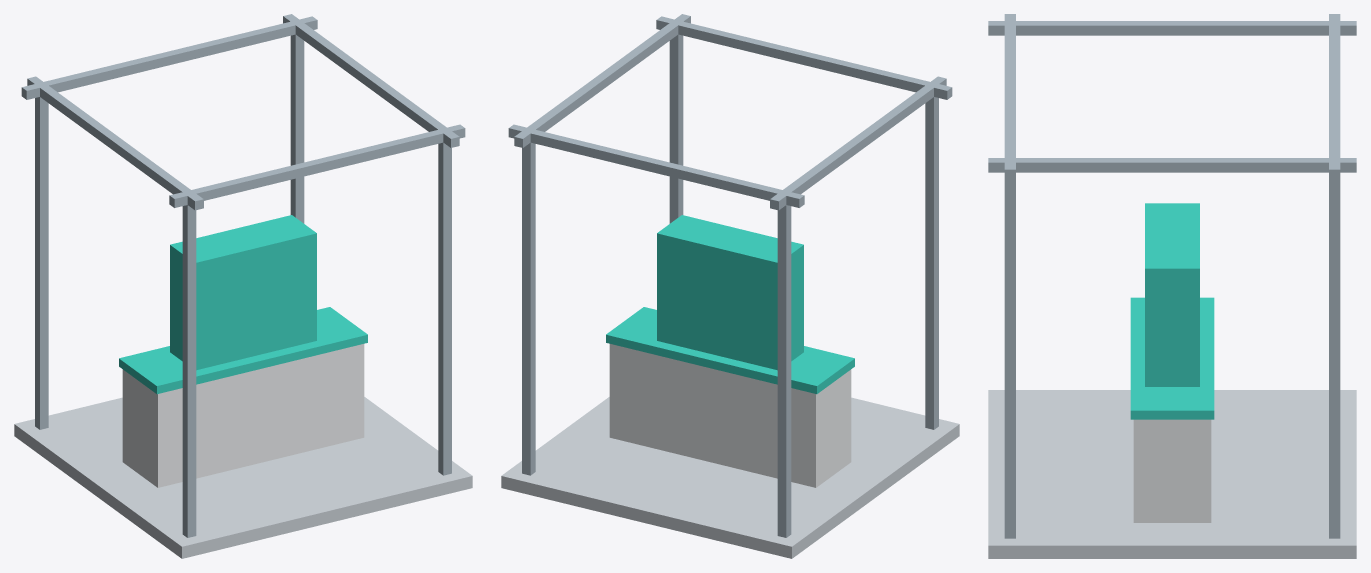
3 renders of one model, left to right at view 1: azimuth 30°, elevation 25°; view 2: azimuth 150°, elevation 25°; view 3: azimuth 270°, elevation 25°, orthographic. The views are drawn at different scales.
Visible parts, largest first — view 1: Exhibition Booth Concept; view 2: Exhibition Booth Concept; view 3: Exhibition Booth Concept.
Boxes of the visible parts, box(x1,y1,x2,y2) form: Exhibition Booth Concept: box(14, 14, 472, 558); Exhibition Booth Concept: box(501, 14, 959, 558); Exhibition Booth Concept: box(988, 14, 1356, 558).
Bounding box in the file's own units: 3 × 3.49 × 3.
